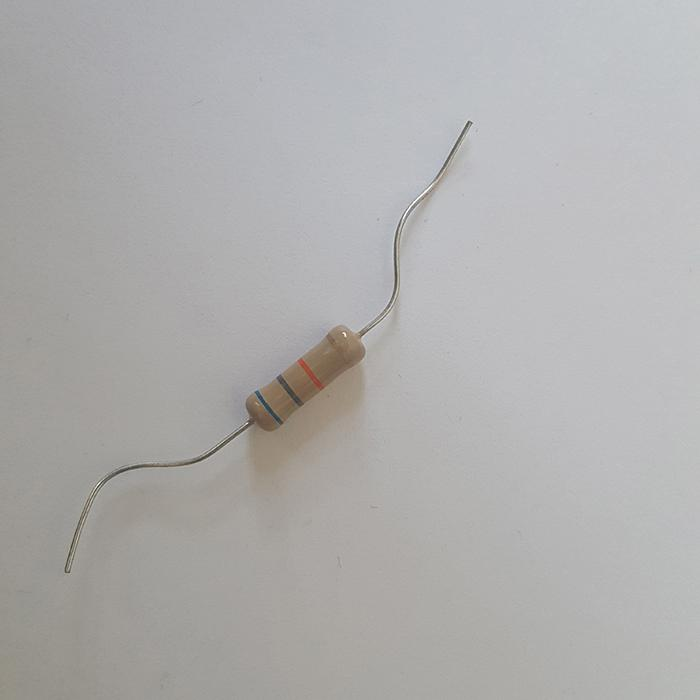resistor: (245, 323, 365, 432)
